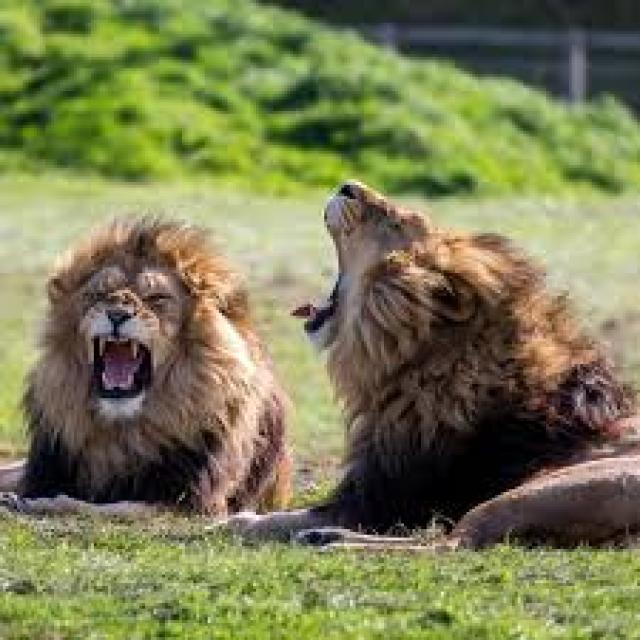Lion: (236, 181, 637, 550), (0, 215, 292, 538)
